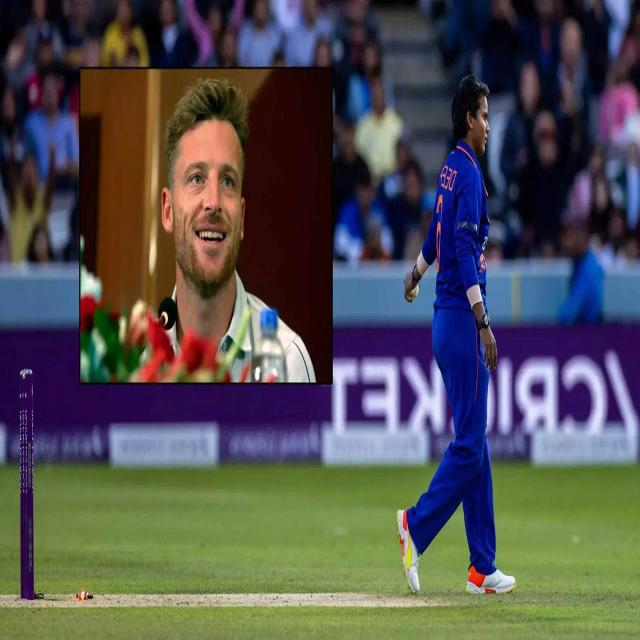stump: (19, 369, 34, 599)
